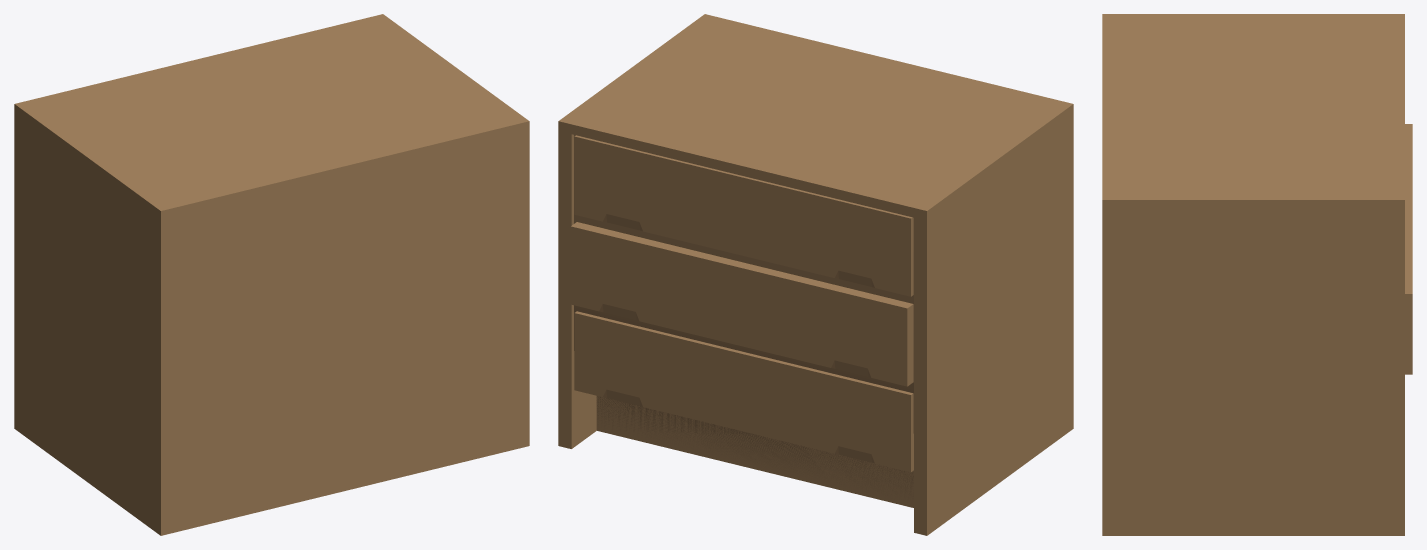
File: cabinet03.fbx
3 renders of one model, left to right at view 1: azimuth 30°, elevation 25°; view 2: azimuth 150°, elevation 25°; view 3: azimuth 270°, elevation 25°, orthographic. The views are drawn at different scales.
Visible parts, largest first — view 1: pasted__polySurface48; view 2: pasted__polySurface48; view 3: pasted__polySurface48.
Boxes of the visible parts, left/top/right/bottom form: pasted__polySurface48: left=14, top=14, right=529, bottom=535; pasted__polySurface48: left=558, top=14, right=1073, bottom=535; pasted__polySurface48: left=1102, top=14, right=1412, bottom=535.
Size of the model in its own units: 74.36 by 62.62 by 52.44.
